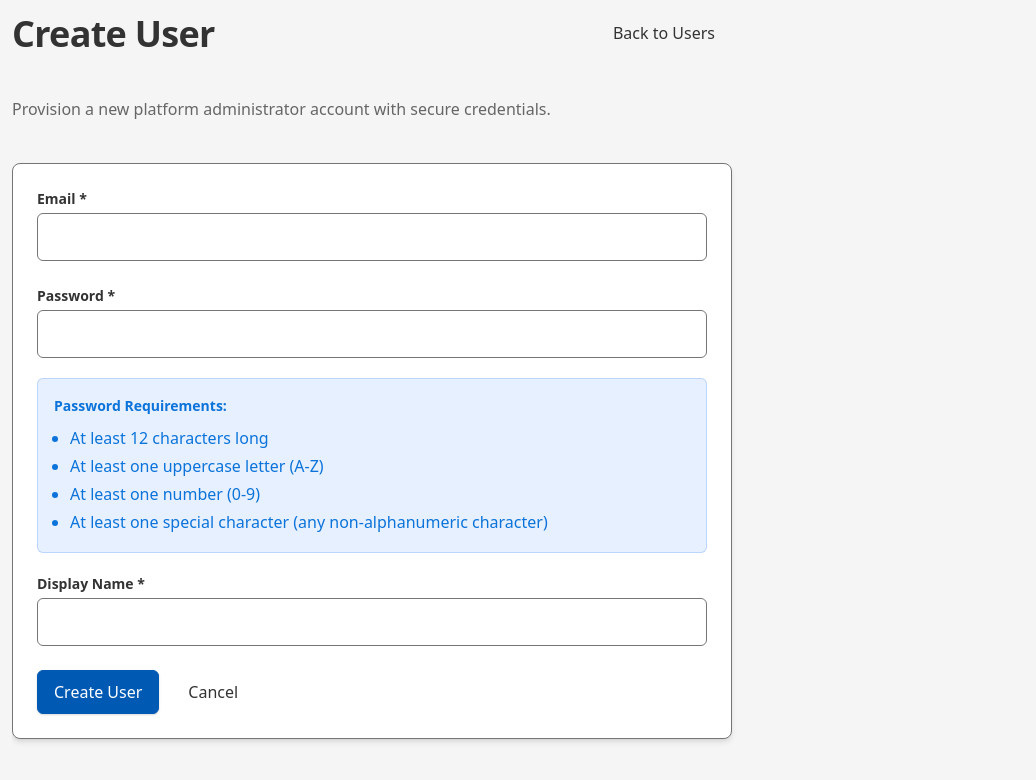
UserCreatePage › shows validation errors and prevents submit when password is too short
Type "short@example.com" into the field labelled "Email *" at (372,237), box x1=37 y1=213 x2=707 y2=261
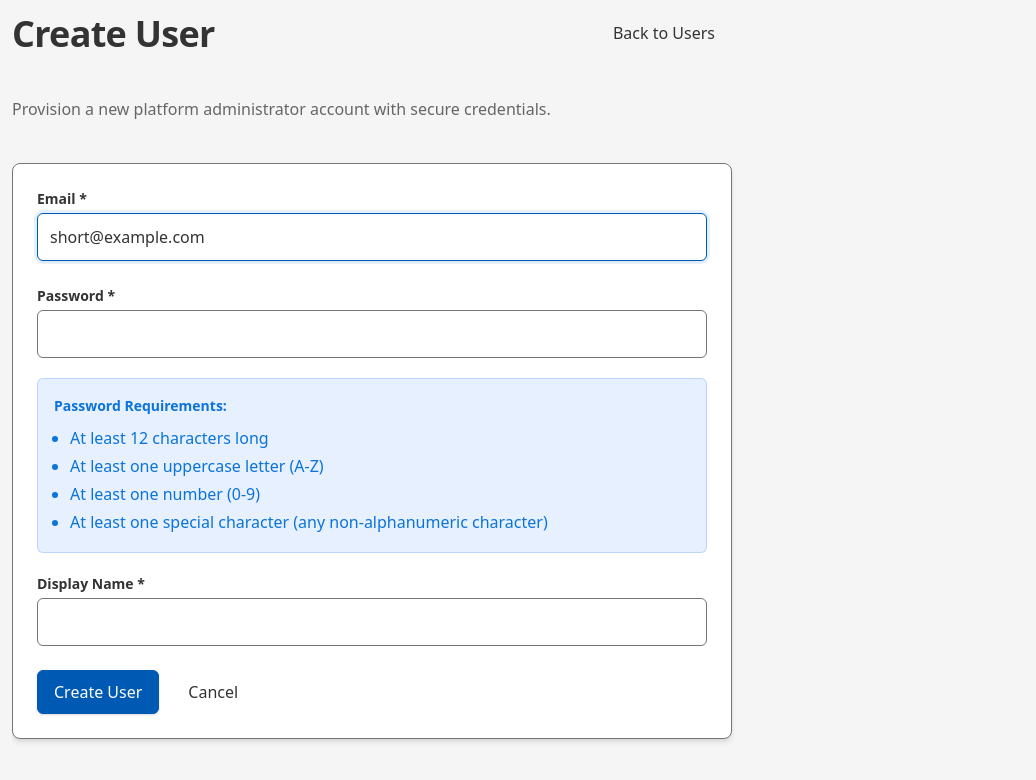
Type "Abc1!" into the password field labelled "Password *" at (372,334), box x1=37 y1=310 x2=707 y2=358
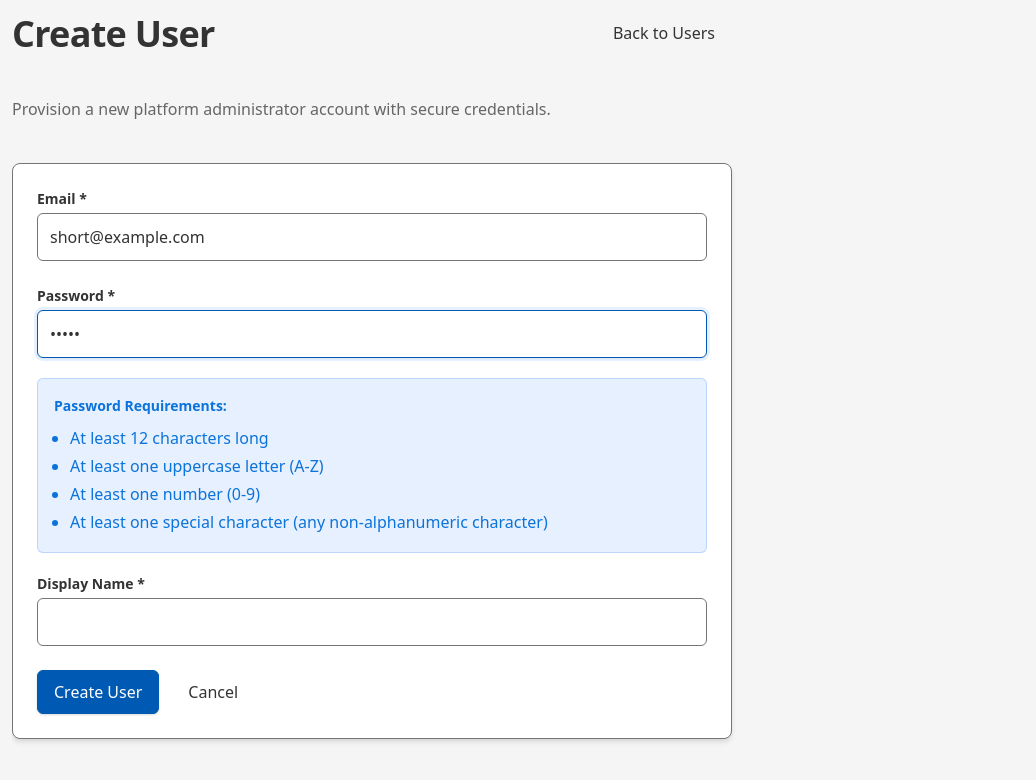
Type "Short Password" into the field labelled "Display Name *" at (372,622), box x1=37 y1=598 x2=707 y2=646
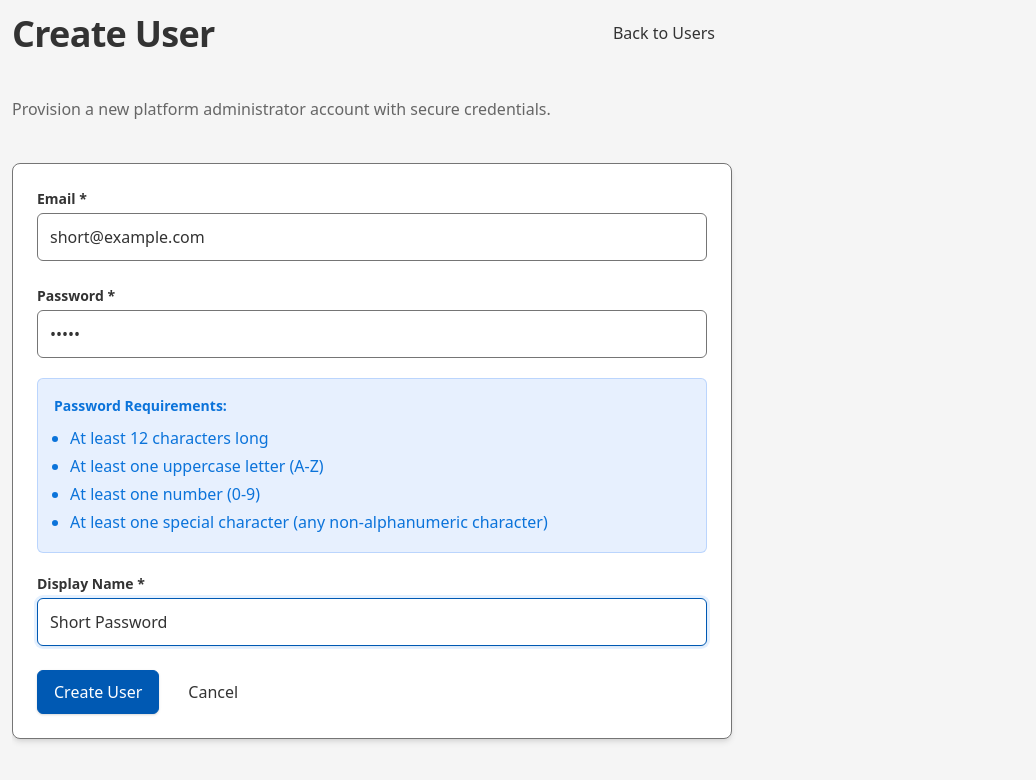
Click the button "Create User" at (98,692), box x1=37 y1=670 x2=159 y2=714
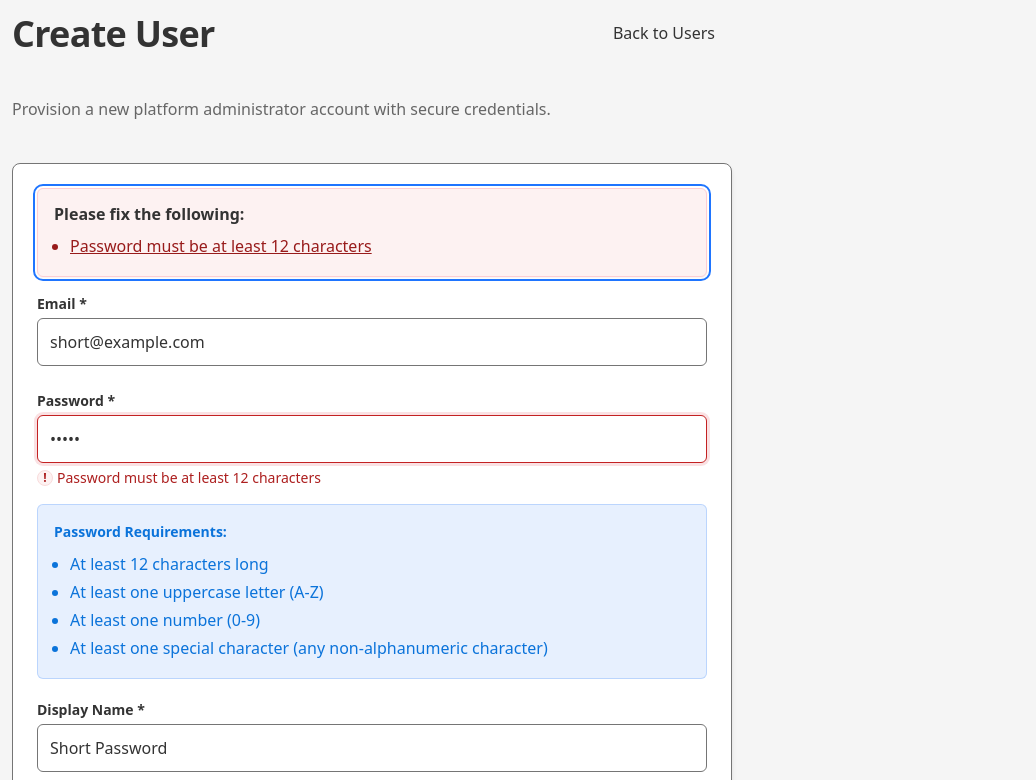
Check: the message with test id "form-error-summary" shows "Password must be at least 12 characters", box x1=70 y1=235 x2=372 y2=257
